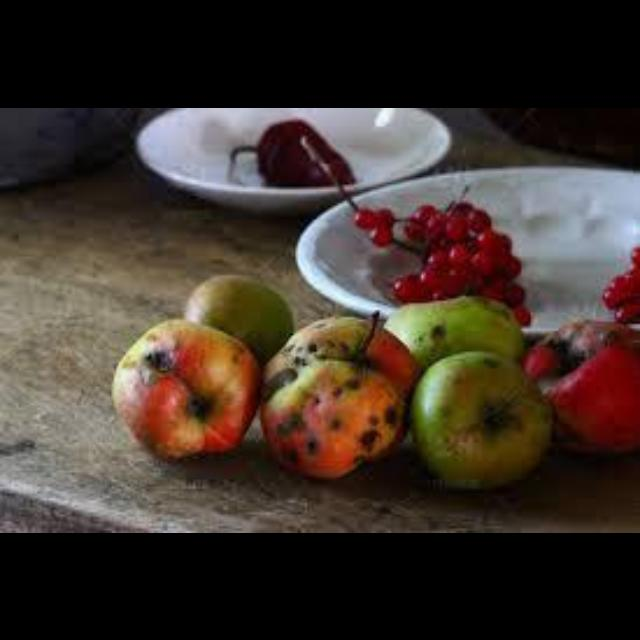apple: (261, 314, 414, 477), (112, 319, 261, 456), (412, 351, 552, 486), (524, 319, 638, 451), (384, 296, 524, 368), (184, 275, 291, 363)
pest: (135, 342, 190, 384), (265, 366, 300, 401), (275, 411, 309, 443), (327, 420, 344, 434)
rotten: (535, 326, 625, 400)
